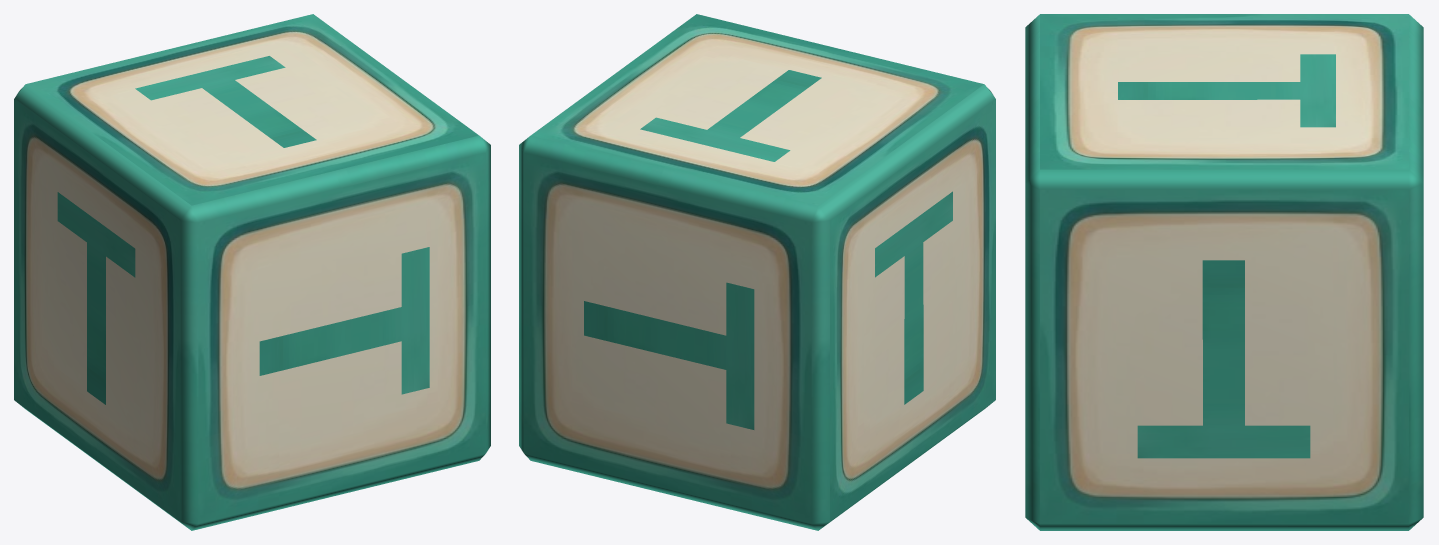
Rendered from CubeT.glb.
3 renders of one model, left to right at view 1: azimuth 30°, elevation 25°; view 2: azimuth 150°, elevation 25°; view 3: azimuth 270°, elevation 25°, orthographic. The views are drawn at different scales.
Visible parts, largest first — view 1: CubeT; view 2: CubeT; view 3: CubeT.
Boxes of the visible parts, <box> form: CubeT: <box>14,14,490,530</box>; CubeT: <box>519,14,995,530</box>; CubeT: <box>1025,14,1423,530</box>.
Size of what is drawn, in the model's own units: 0.5144 by 0.513 by 0.513.
Materials: 1 (1 with a texture image).
